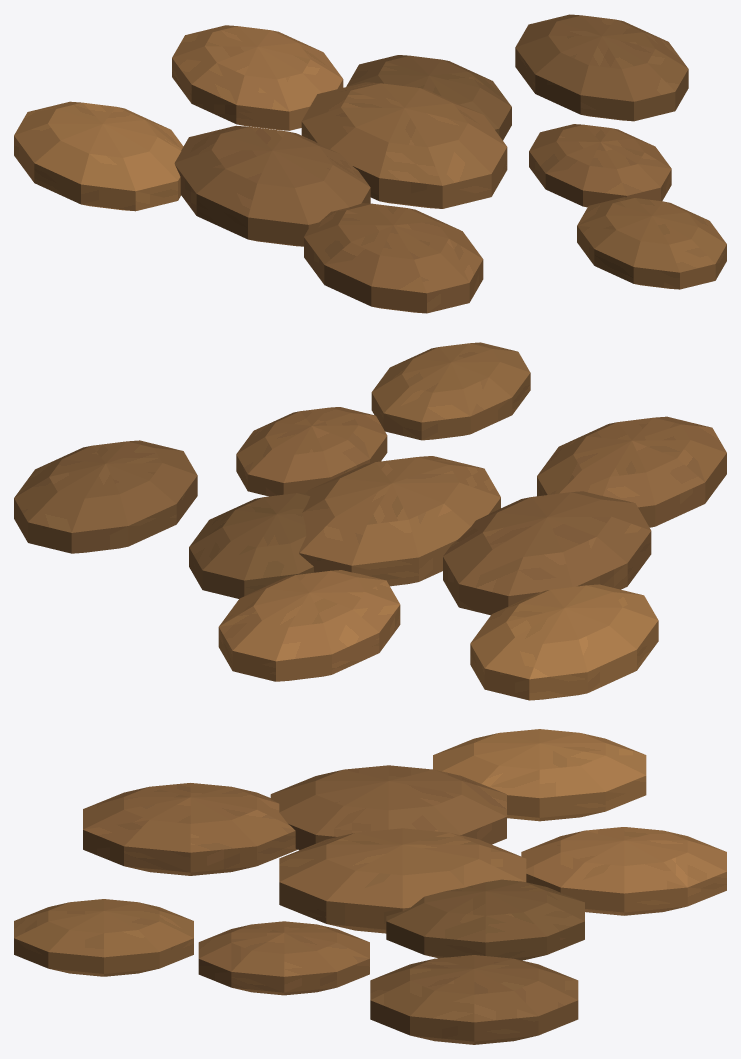
File: seed_gherkin.glb
3 renders of one model, top to bottom at view 1: azimuth 30°, elevation 25°; view 2: azimuth 150°, elevation 25°; view 3: azimuth 270°, elevation 25°, orthographic. The views are drawn at different scales.
Parts seen in each view (by area): view 1: block_grain 0, block_grain 2, block_grain 5, block_grain 7, block_grain 6, block_grain 4, block_grain 8, block_grain 3, block_grain 1; view 2: block_grain 0, block_grain 2, block_grain 7, block_grain 6, block_grain 4, block_grain 5, block_grain 8, block_grain 3, block_grain 1; view 3: block_grain 0, block_grain 5, block_grain 6, block_grain 4, block_grain 2, block_grain 7, block_grain 1, block_grain 8, block_grain 3.
Part boxes in pixels (left/top/right/bottom): block_grain 0: left=301, top=82, right=507, bottom=208; block_grain 2: left=174, top=125, right=370, bottom=246; block_grain 5: left=304, top=203, right=483, bottom=313; block_grain 7: left=14, top=101, right=183, bottom=211; block_grain 6: left=515, top=14, right=688, bottom=121; block_grain 4: left=172, top=25, right=343, bottom=130; block_grain 8: left=577, top=197, right=726, bottom=289; block_grain 3: left=529, top=124, right=671, bottom=207; block_grain 1: left=346, top=55, right=511, bottom=140; block_grain 0: left=299, top=456, right=500, bottom=586; block_grain 2: left=443, top=491, right=651, bottom=615; block_grain 7: left=470, top=584, right=658, bottom=700; block_grain 6: left=14, top=440, right=197, bottom=553; block_grain 4: left=218, top=570, right=400, bottom=681; block_grain 5: left=537, top=416, right=726, bottom=527; block_grain 8: left=371, top=342, right=530, bottom=440; block_grain 3: left=236, top=407, right=387, bottom=496; block_grain 1: left=189, top=492, right=313, bottom=598; block_grain 0: left=279, top=828, right=526, bottom=933; block_grain 5: left=83, top=783, right=297, bottom=875; block_grain 6: left=370, top=955, right=578, bottom=1044; block_grain 4: left=521, top=827, right=726, bottom=915; block_grain 2: left=270, top=765, right=506, bottom=850; block_grain 7: left=433, top=729, right=646, bottom=821; block_grain 1: left=386, top=879, right=584, bottom=960; block_grain 8: left=14, top=899, right=193, bottom=976; block_grain 3: left=198, top=921, right=369, bottom=995.
Bounding box in the file's own units: 0.0211 × 0.00252 × 0.022.
Materials: 1 (1 with a texture image).
